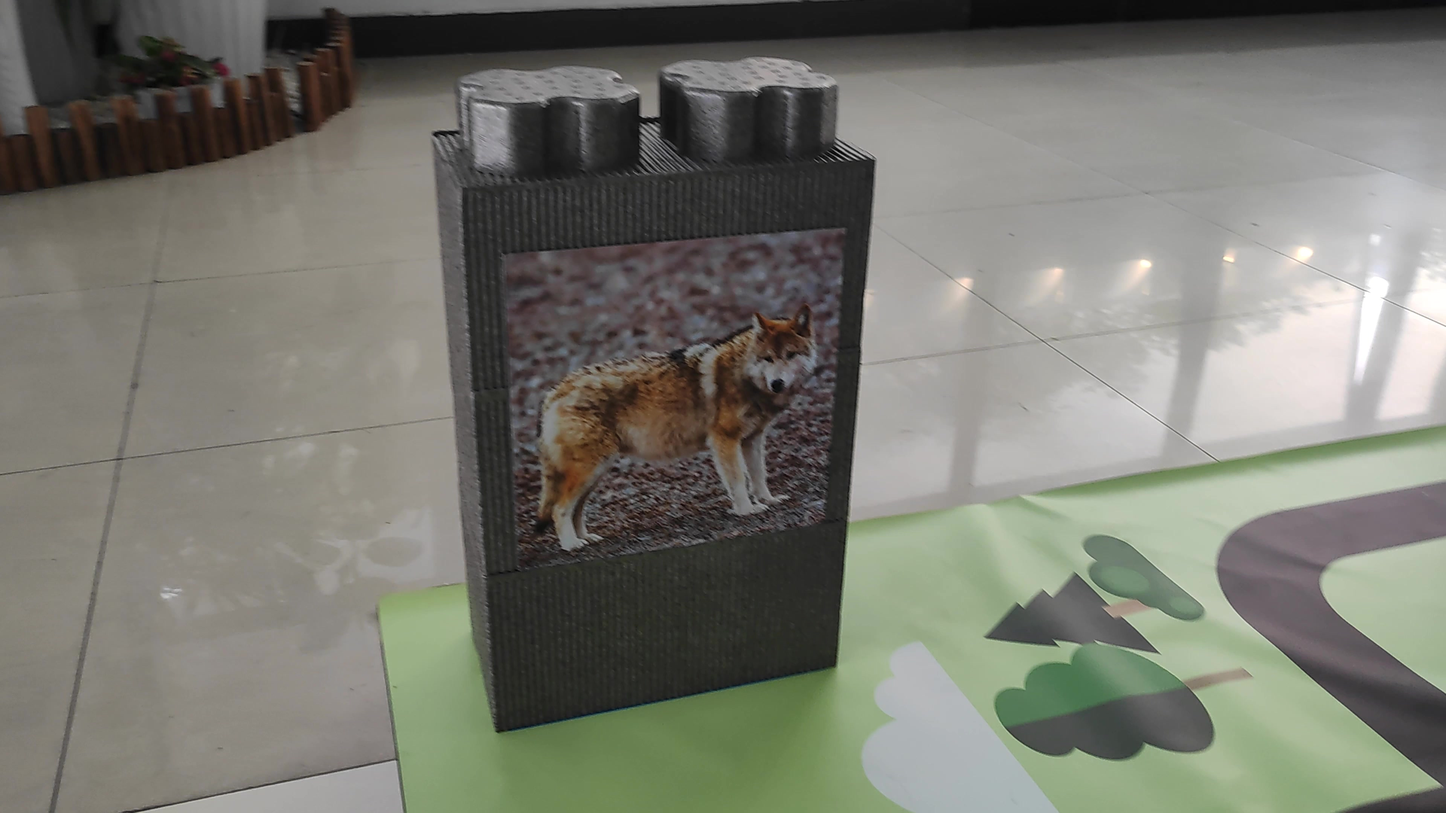wolf: (525, 259, 828, 504)
